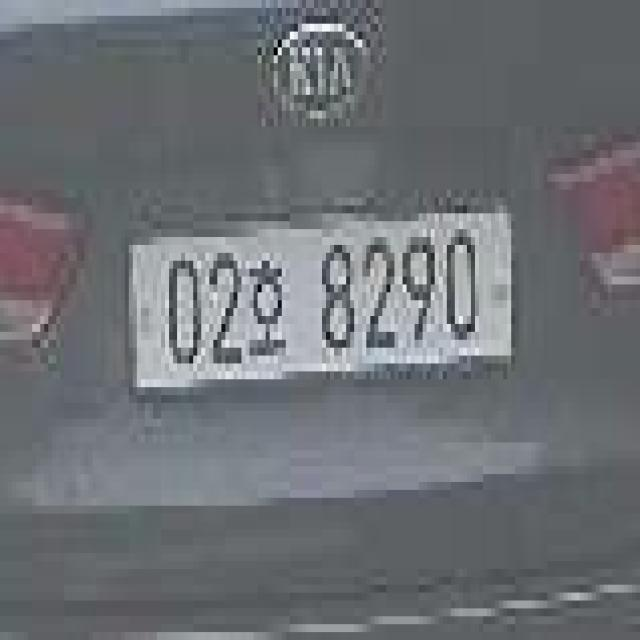illegal_plate: (121, 205, 519, 394)
